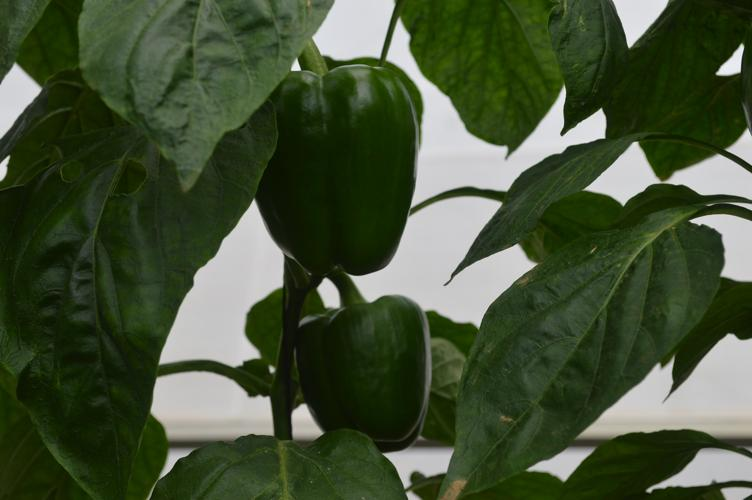BellPepper: (251, 65, 419, 275), (291, 293, 432, 451)
